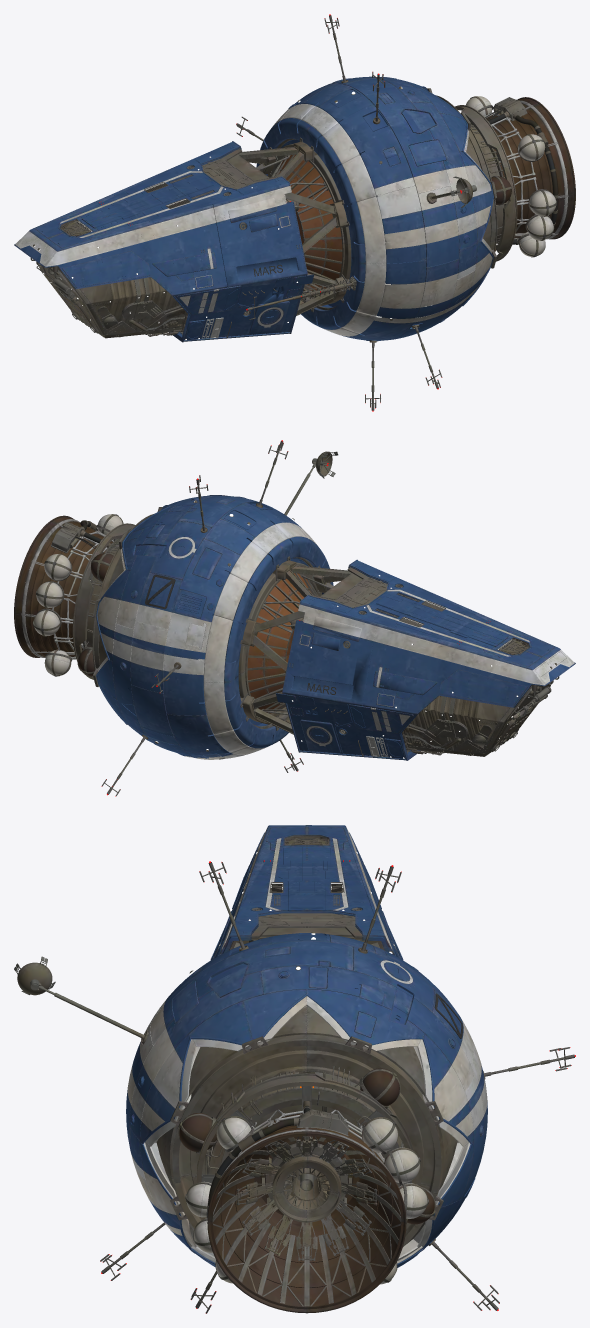
Rendered from epstein.glb.
The picture shows the model from 3 angles, top to bottom: view 1: azimuth 30°, elevation 25°; view 2: azimuth 150°, elevation 25°; view 3: azimuth 270°, elevation 25°; orthographic projection. The views are drawn at different scales.
Visible parts, largest first — view 1: Sphere.000_Main_Paint_0, Sphere.000_Metal_Body_Parts_0, Sphere.000_Metal_Exhaust_0, Sphere.000_Rubber_Hose_0; view 2: Sphere.000_Main_Paint_0, Sphere.000_Metal_Body_Parts_0, Sphere.000_Metal_Exhaust_0; view 3: Sphere.000_Main_Paint_0, Sphere.000_Metal_Body_Parts_0, Sphere.000_Metal_Exhaust_0, Sphere.000_Rubber_Hose_0.
Part boxes in pixels (x1,y1,x2,y2): Sphere.000_Main_Paint_0: (14,76,568,342); Sphere.000_Metal_Body_Parts_0: (30,15,558,410); Sphere.000_Metal_Exhaust_0: (486,97,575,239); Sphere.000_Rubber_Hose_0: (485,108,557,244); Sphere.000_Main_Paint_0: (21,495,575,760); Sphere.000_Metal_Body_Parts_0: (33,440,559,796); Sphere.000_Metal_Exhaust_0: (14,515,113,676); Sphere.000_Main_Paint_0: (126,825,487,1284); Sphere.000_Metal_Body_Parts_0: (14,835,574,1313); Sphere.000_Metal_Exhaust_0: (179,1068,434,1313); Sphere.000_Rubber_Hose_0: (208,1106,326,1212).
Size of the model in its own units: 313 by 199 by 218.
Materials: 8 (4 with a texture image).
